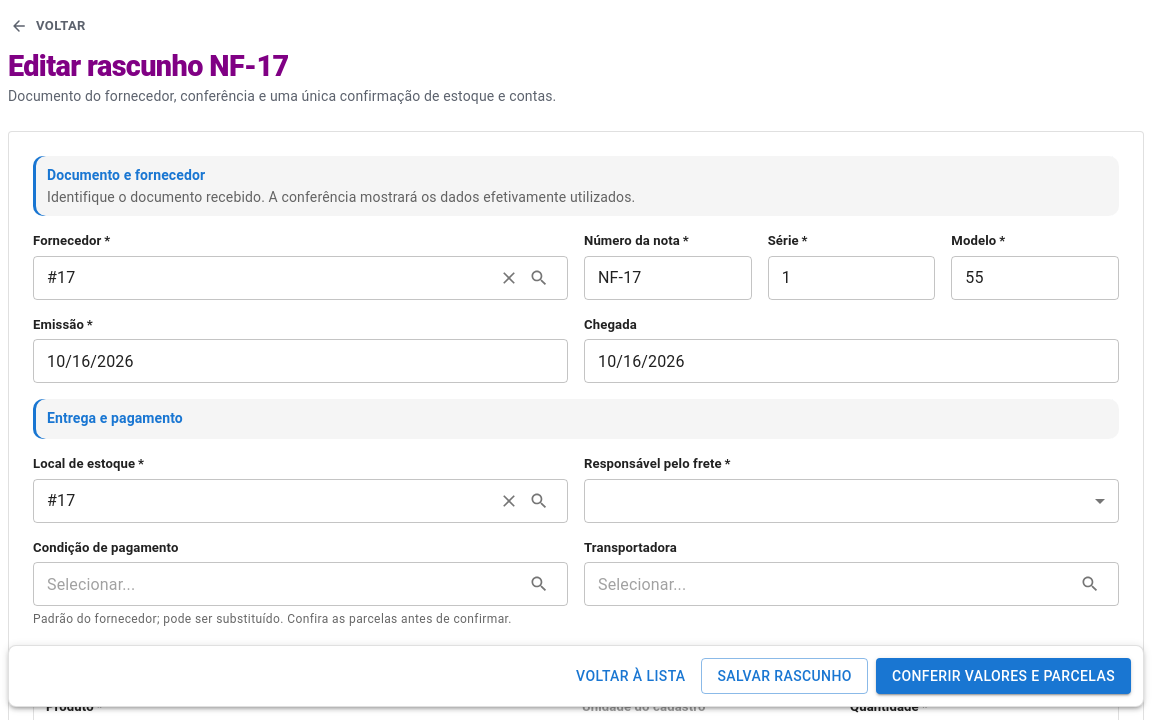
Test case: Nota editável, revisão e confirmação por ID › qualquer alteração invalida a conferência e PUT obsoleto preserva os dados
Expected: the field showing "NF-17" is shown, [584,258,752,298]
Click the button "Conferir valores e parcelas" at x=1003, y=677, box [876,658,1131,695]
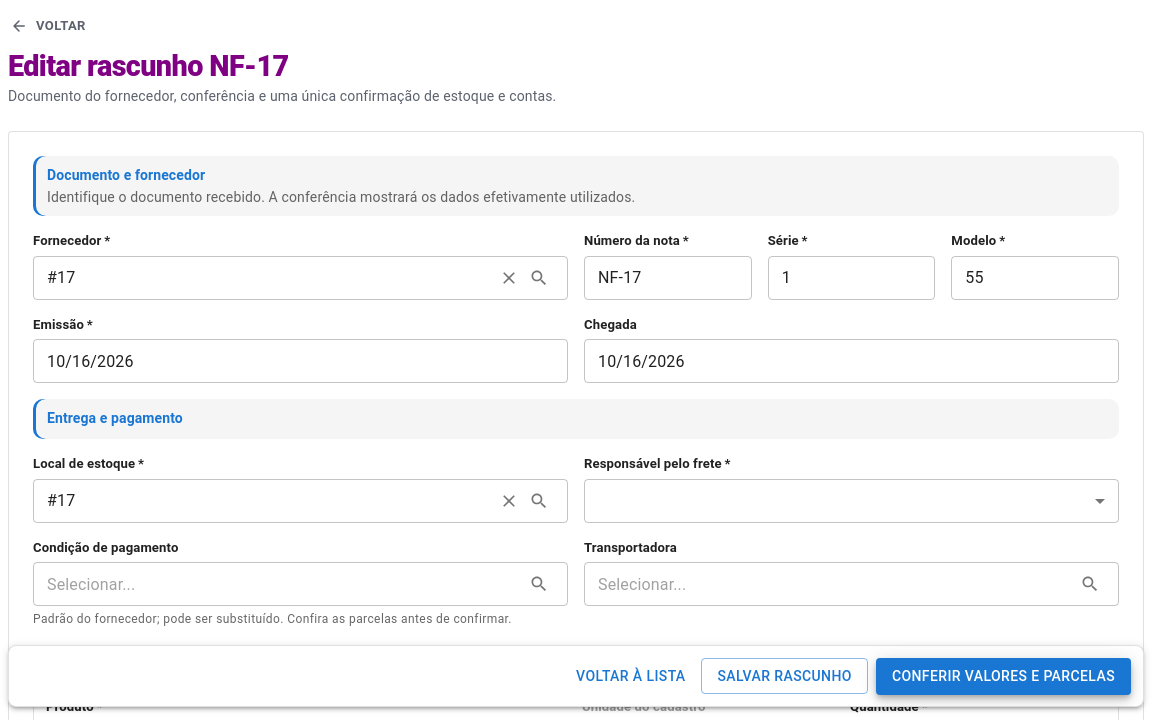
Replace the text in the field labelled "Número da nota *" with "CORRIGIDA" at x=668, y=278, box [584,258,752,298]
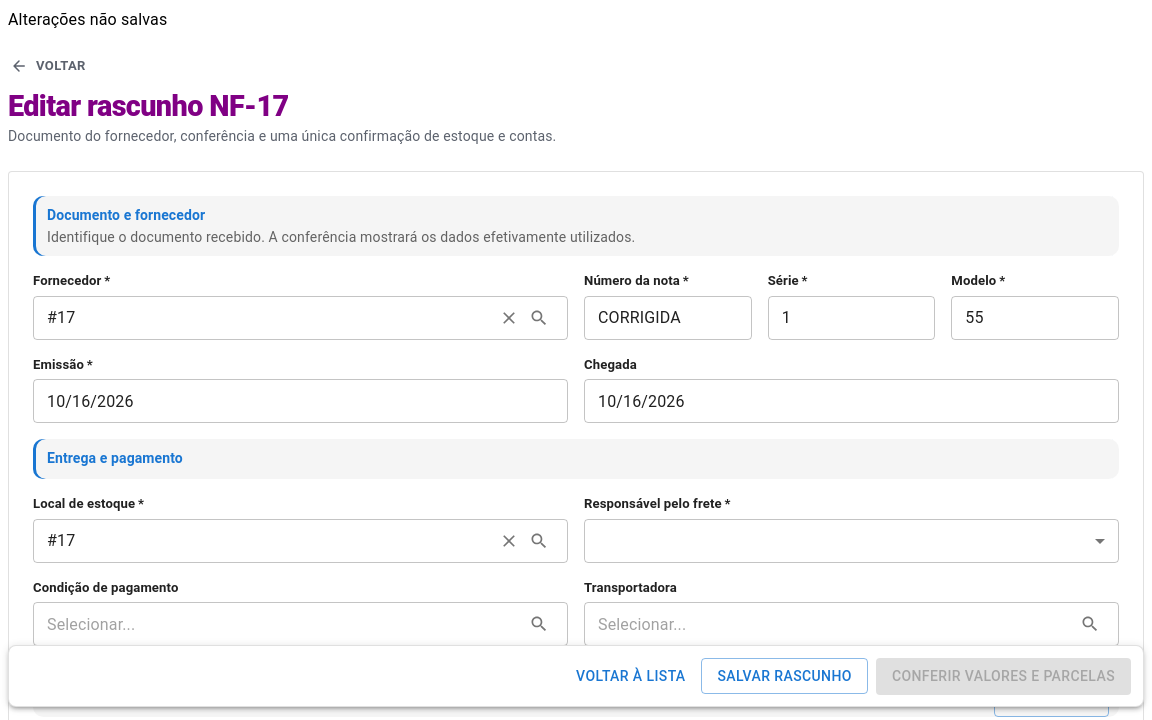
Click the button "Salvar rascunho" at x=785, y=677, box [702,658,868,695]
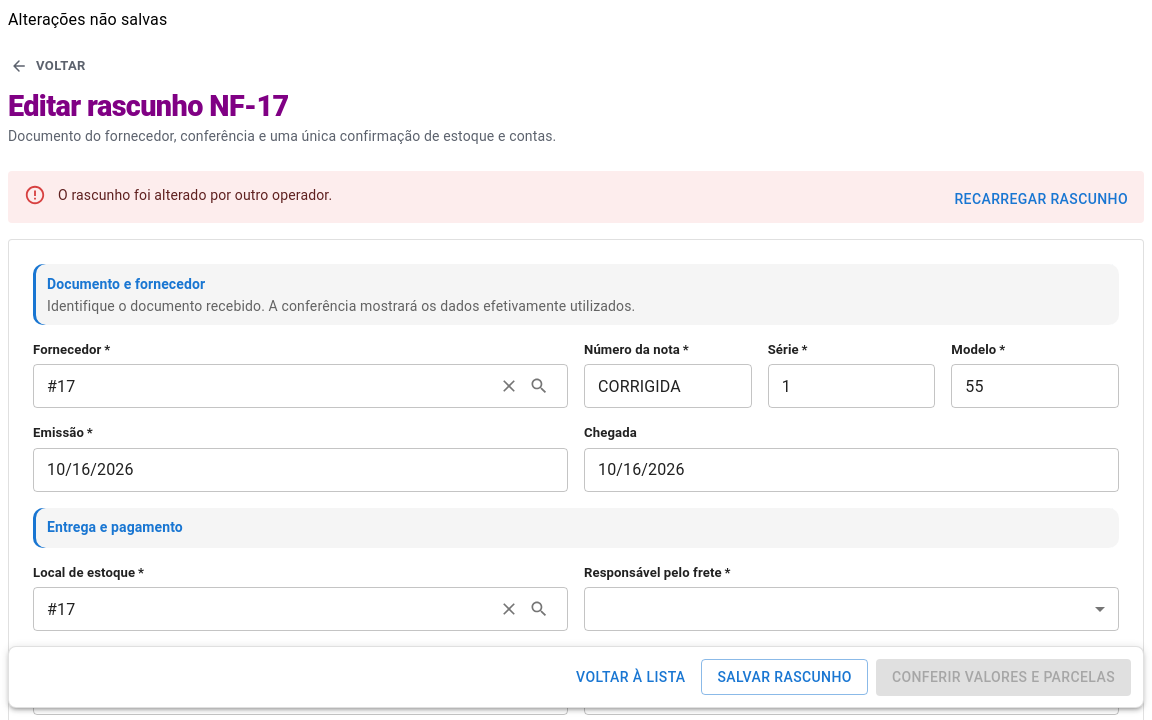
Expected: the text "O rascunho foi alterado por outro operador." is shown, [58,187,332,203]
